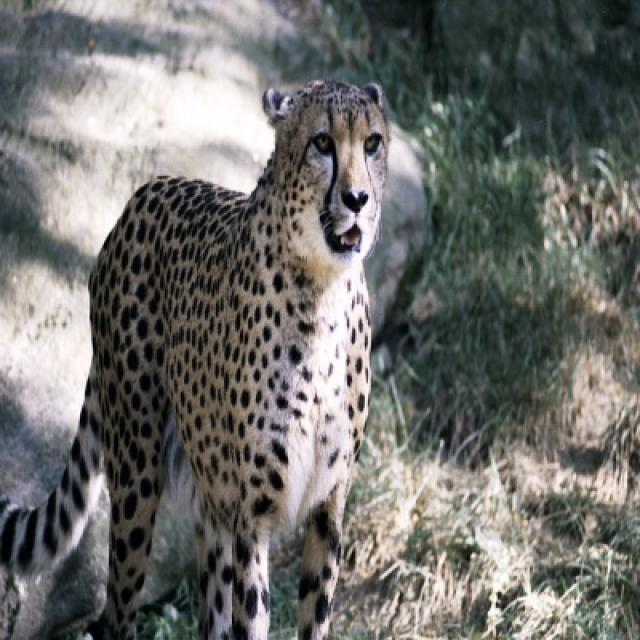Cheetah: (29, 80, 397, 638)
